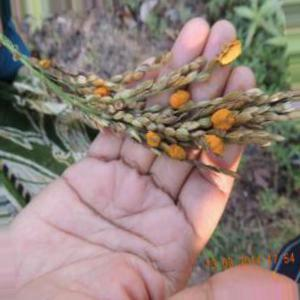Leaf_Scald: (140, 129, 188, 163), (211, 108, 233, 168), (164, 88, 194, 116), (224, 42, 239, 65), (93, 84, 108, 106)
